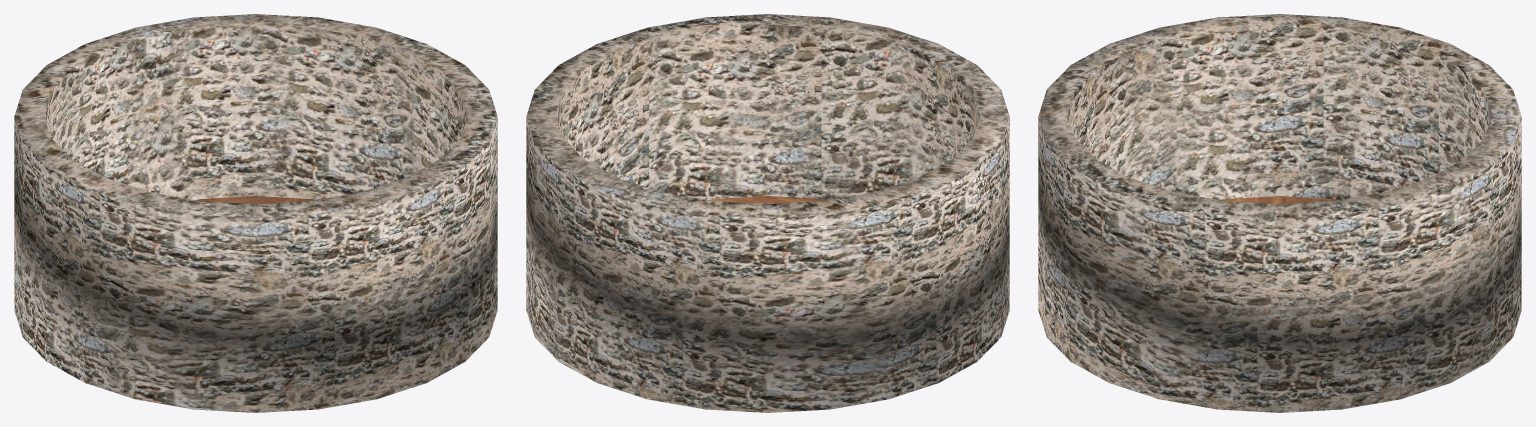
Rendered from wizrad_tower_interior.fbx.
The picture shows the model from 3 angles, left to right: view 1: azimuth 30°, elevation 25°; view 2: azimuth 150°, elevation 25°; view 3: azimuth 270°, elevation 25°; orthographic projection.
Parts seen in each view (by area): view 1: Cylinder; view 2: Cylinder; view 3: Cylinder.
Boxes of the visible parts, <box> form: Cylinder: <box>14,14,497,412</box>; Cylinder: <box>526,14,1009,412</box>; Cylinder: <box>1038,14,1521,412</box>.
Size of the model in its own units: 676 by 303 by 676.
Materials: 1 (1 with a texture image).
